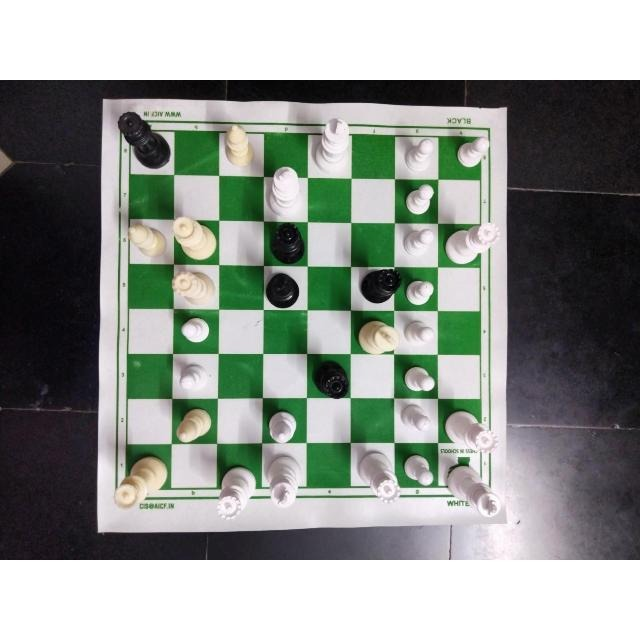black-king: (265, 270, 305, 315)
black-queen: (114, 109, 172, 173), (357, 265, 403, 305), (308, 357, 349, 401), (268, 220, 307, 264)
white-bishop: (262, 402, 306, 446), (125, 217, 167, 258), (221, 121, 258, 167), (173, 407, 215, 442)
white-king: (441, 460, 502, 520), (312, 115, 353, 178), (264, 162, 305, 222), (262, 455, 303, 511), (354, 316, 401, 359)
white-pawn: (400, 137, 439, 179), (453, 132, 492, 173), (398, 181, 438, 218), (399, 451, 434, 491), (174, 362, 210, 398), (395, 404, 434, 437), (400, 226, 437, 260), (402, 361, 438, 395), (401, 315, 437, 349), (176, 315, 212, 347), (403, 274, 435, 310)
white-queen: (109, 454, 169, 510), (441, 406, 499, 458), (355, 447, 404, 505), (213, 462, 257, 522), (441, 222, 500, 266), (169, 213, 220, 262), (170, 262, 216, 306)
